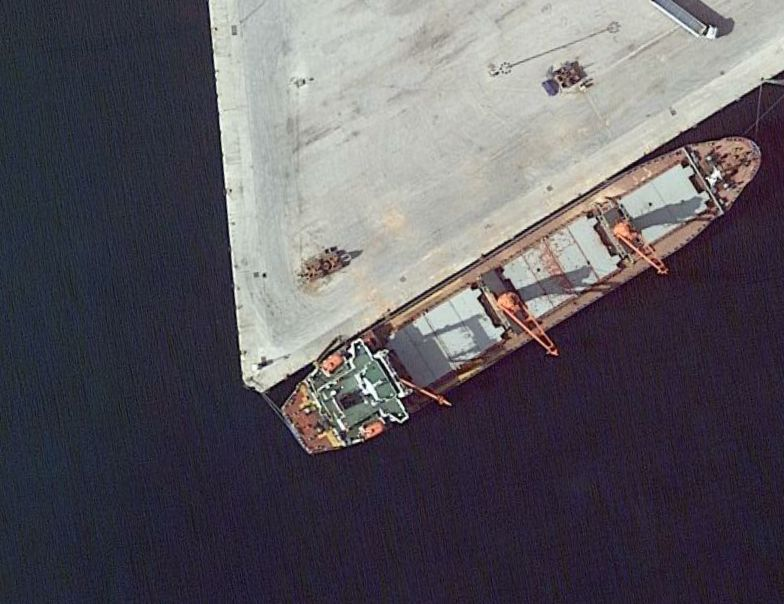boat: (280, 134, 765, 457)
